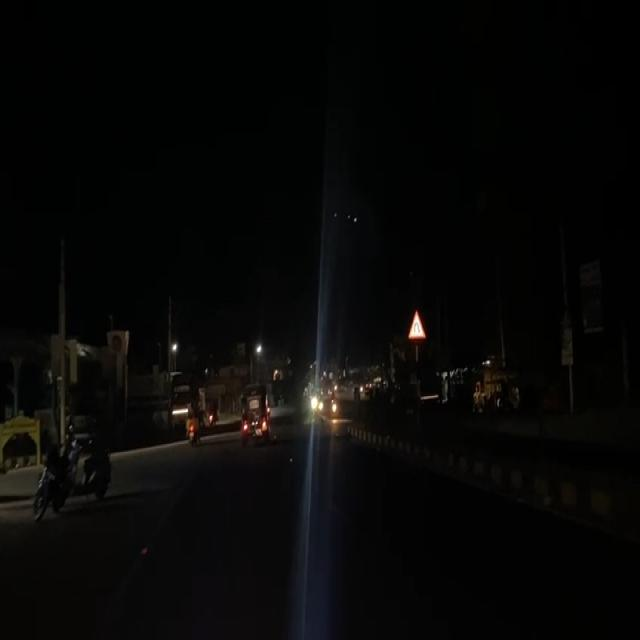bien_cam: (407, 308, 426, 343)
